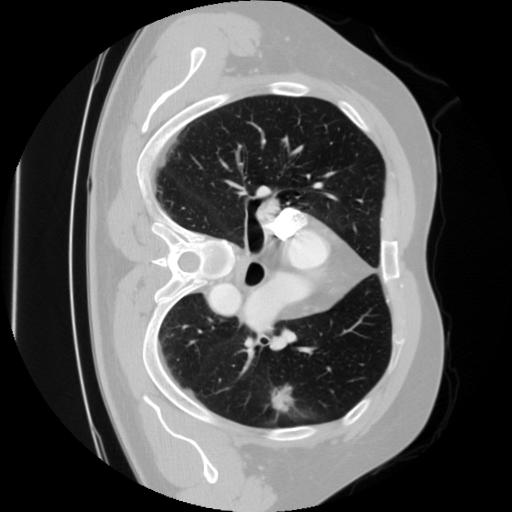nodule: (267, 381, 301, 415)
